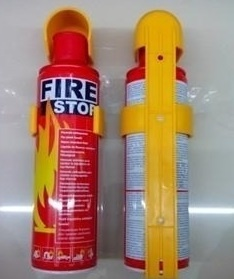fire_extinguisher: (30, 7, 105, 274), (120, 9, 193, 279)
